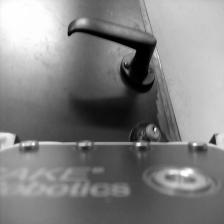Door Handle: (67, 16, 156, 94)
Lock: (129, 122, 166, 142)
